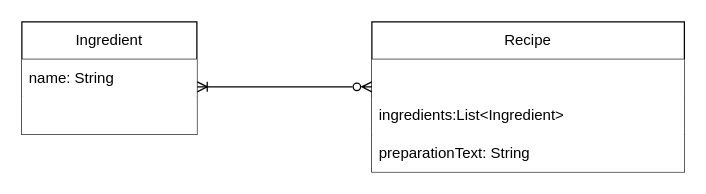
This 706x194 diagram has some shape labels left out. Each missing label, with the box of its shape:
kCal: double: (21, 96, 196, 134)
recipeTitle:String: (371, 59, 684, 96)
